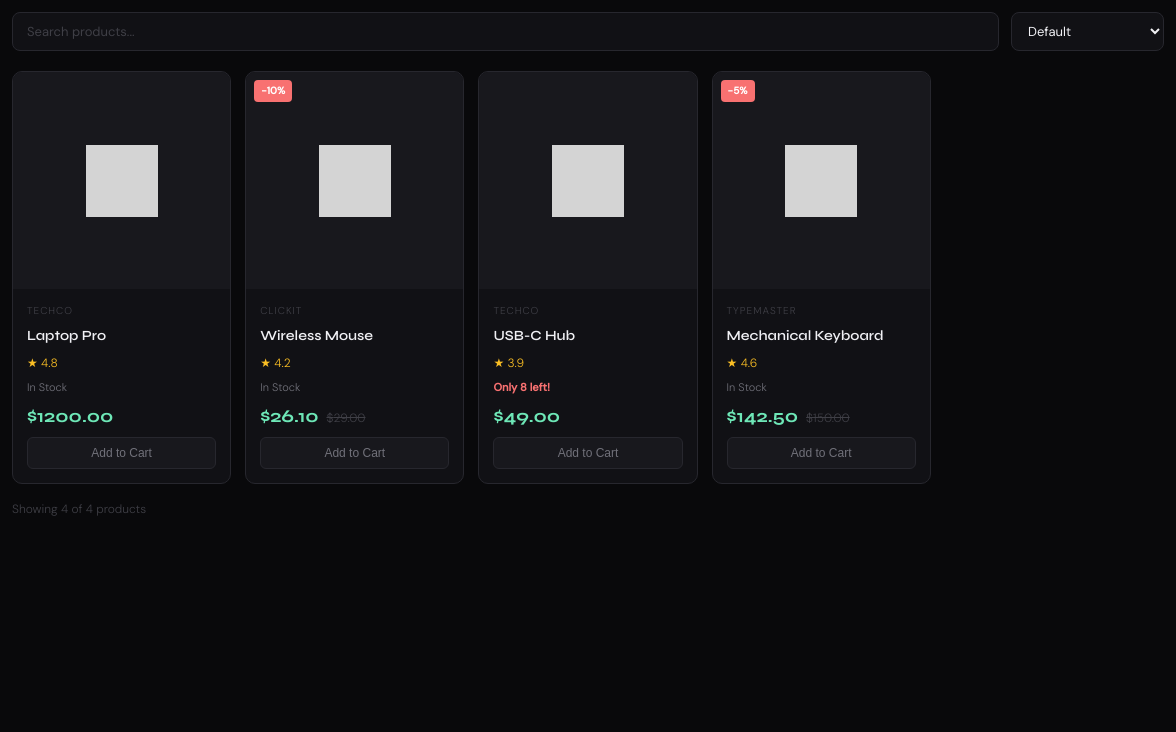
Test: ProductList — Search Filtering › shows no-results message when search has no matches
Type "xyznotfound" into the field with test id "search-input" at coordinates (506, 32), box [12,12,999,51]
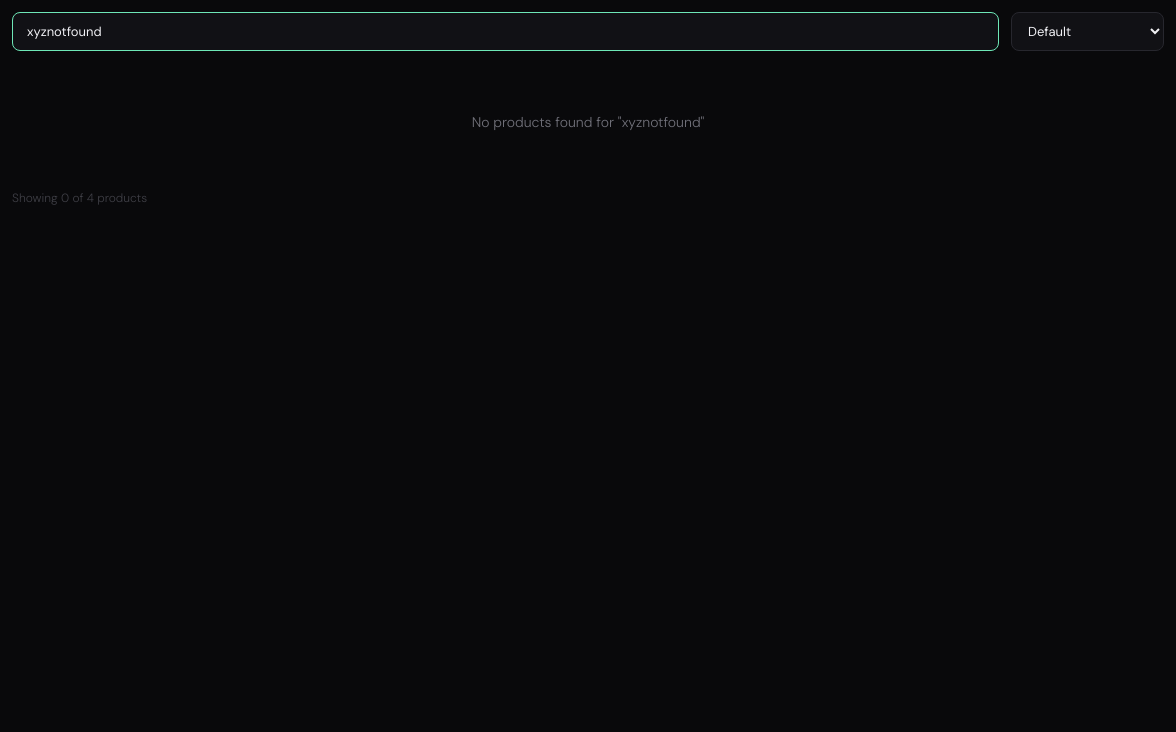
Check: the element with test id "product-grid" is gone
Check: the text "No products found for \"xyznotfound\"" is shown, box [472,113,704,131]
Check: the text with test id "no-results" shows "xyznotfound", box [622,113,700,131]
